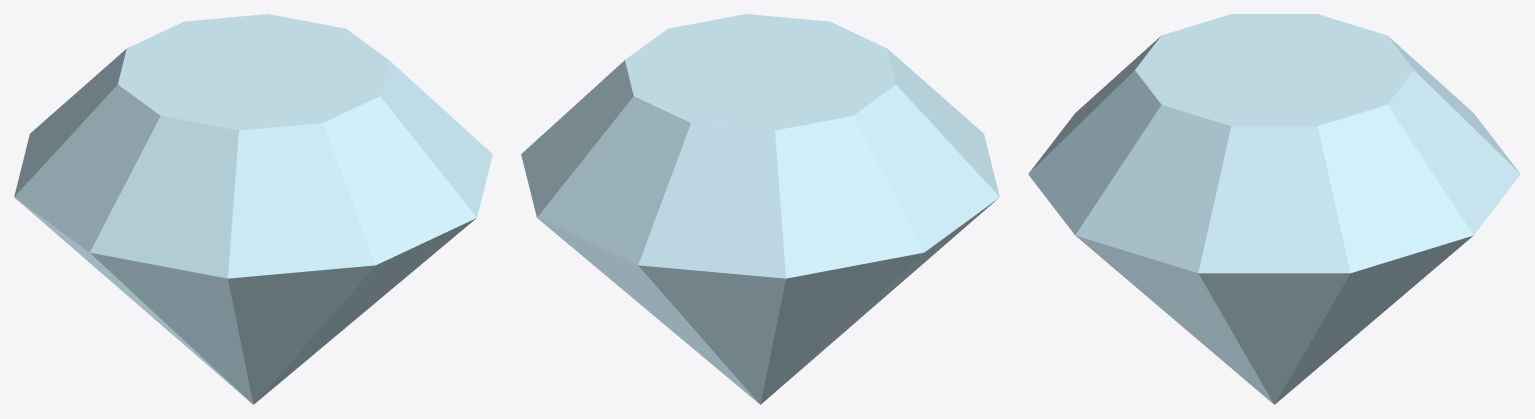
Rendered from Diamond.fbx.
3 renders of one model, left to right at view 1: azimuth 30°, elevation 25°; view 2: azimuth 150°, elevation 25°; view 3: azimuth 270°, elevation 25°, orthographic.
Parts seen in each view (by area): view 1: Body.013; view 2: Body.013; view 3: Body.013.
Boxes of the visible parts, x1,y1,x2,y2 form: Body.013: (14,14,492,404); Body.013: (521,14,999,404); Body.013: (1028,14,1520,404).
Bounding box in the file's own units: 1.14 × 0.9 × 1.2.
